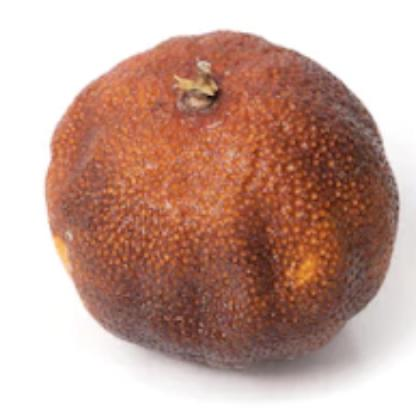rotten: (46, 29, 399, 373)
